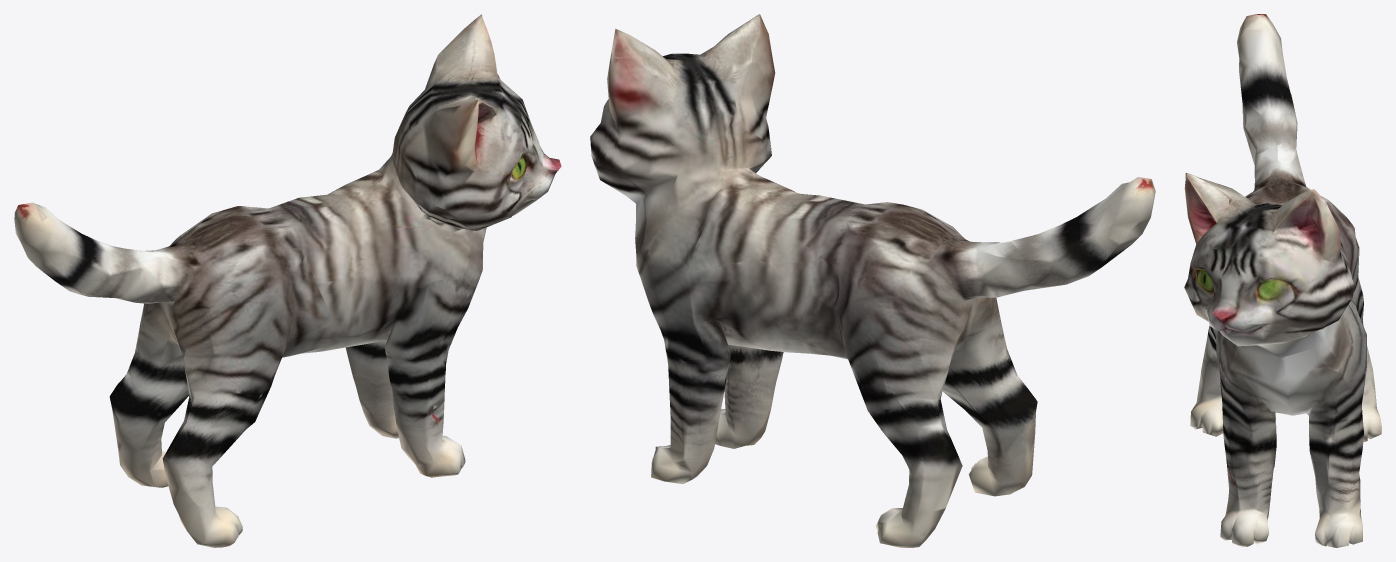
The model's file is JELLIECAT-lo.glb.
3 views of the same model, side by side, from view 1: azimuth 30°, elevation 25°; view 2: azimuth 150°, elevation 25°; view 3: azimuth 270°, elevation 25° (orthographic). The views are drawn at different scales.
Visible parts, largest first — view 1: fit; view 2: fit; view 3: fit.
Part boxes in pixels (x1=…): fit: x1=14, y1=14, x2=561, y2=547; fit: x1=590, y1=14, x2=1155, y2=547; fit: x1=1184, y1=14, x2=1381, y2=547.
Bounding box in the file's own units: 1.34 × 0.9995 × 0.4632.
1 material, 1 textured.
